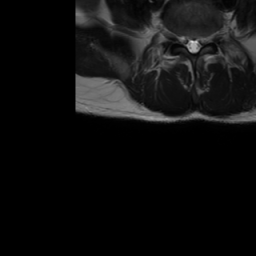CCS_stenosis: (190, 33, 197, 57)
LFS_normal: (204, 28, 211, 51)
LLS_normal: (197, 31, 203, 55)
RFS_normal: (177, 27, 185, 49)
RLS_normal: (185, 31, 191, 56)
